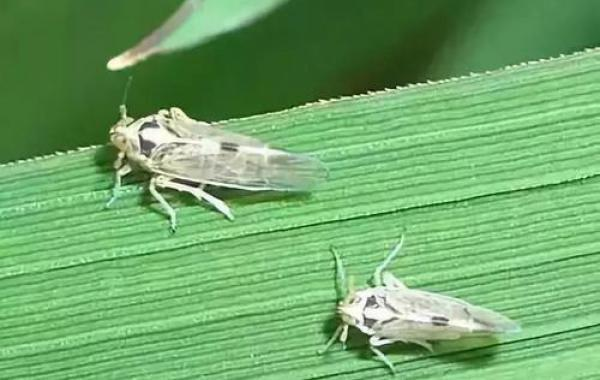Delphacidae: (104, 76, 331, 232), (316, 233, 521, 375)
